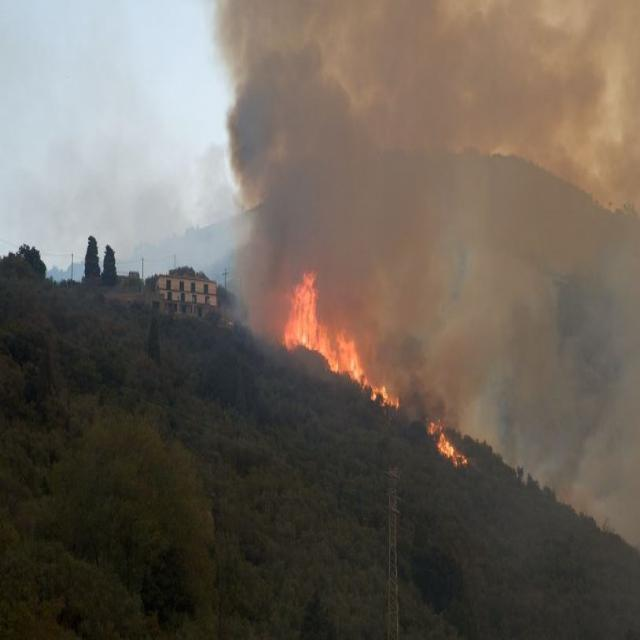Fire: (282, 259, 402, 415), (426, 424, 468, 468)
